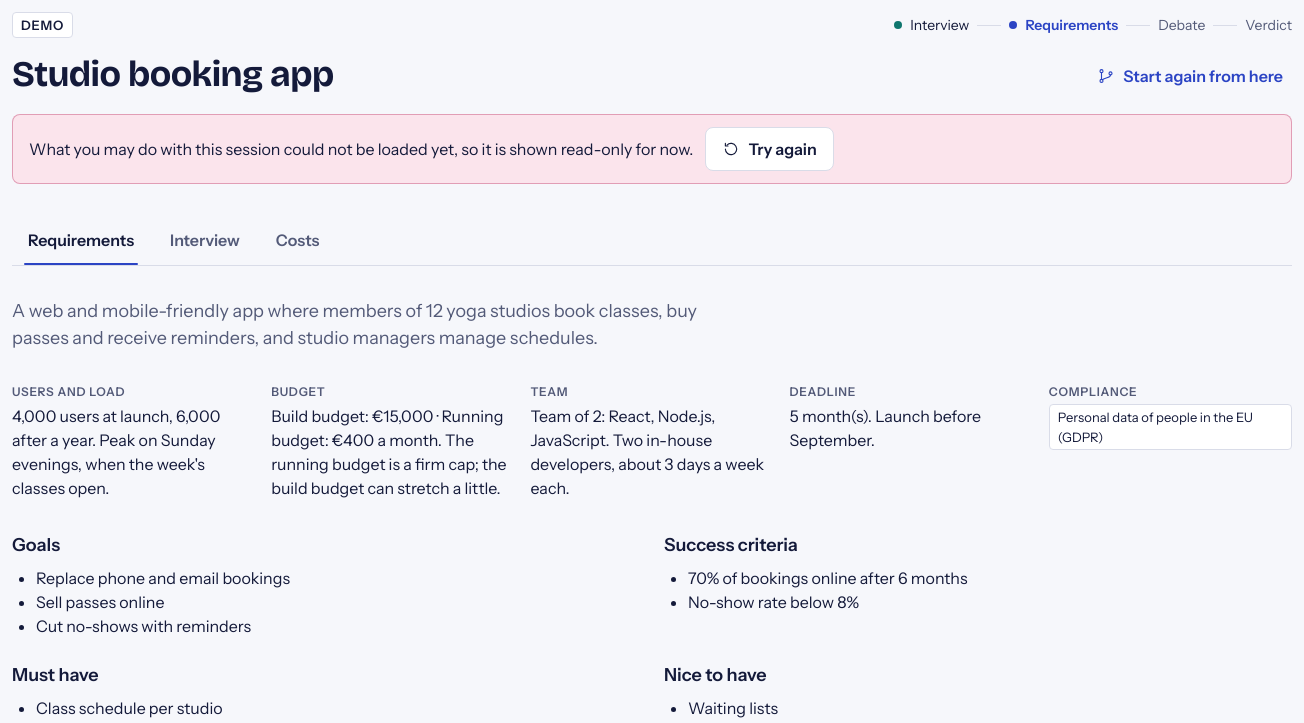
the details of a session › say so, and offer to try again, when they cannot be loaded: the owner is not silently read-only
Expected: the message shows "shown read-only for now", left=29, top=139, right=693, bottom=159
Expected: the button "Share" is not shown
Click the button "Try again". click: (770, 149)
box: left=705, top=127, right=834, bottom=171
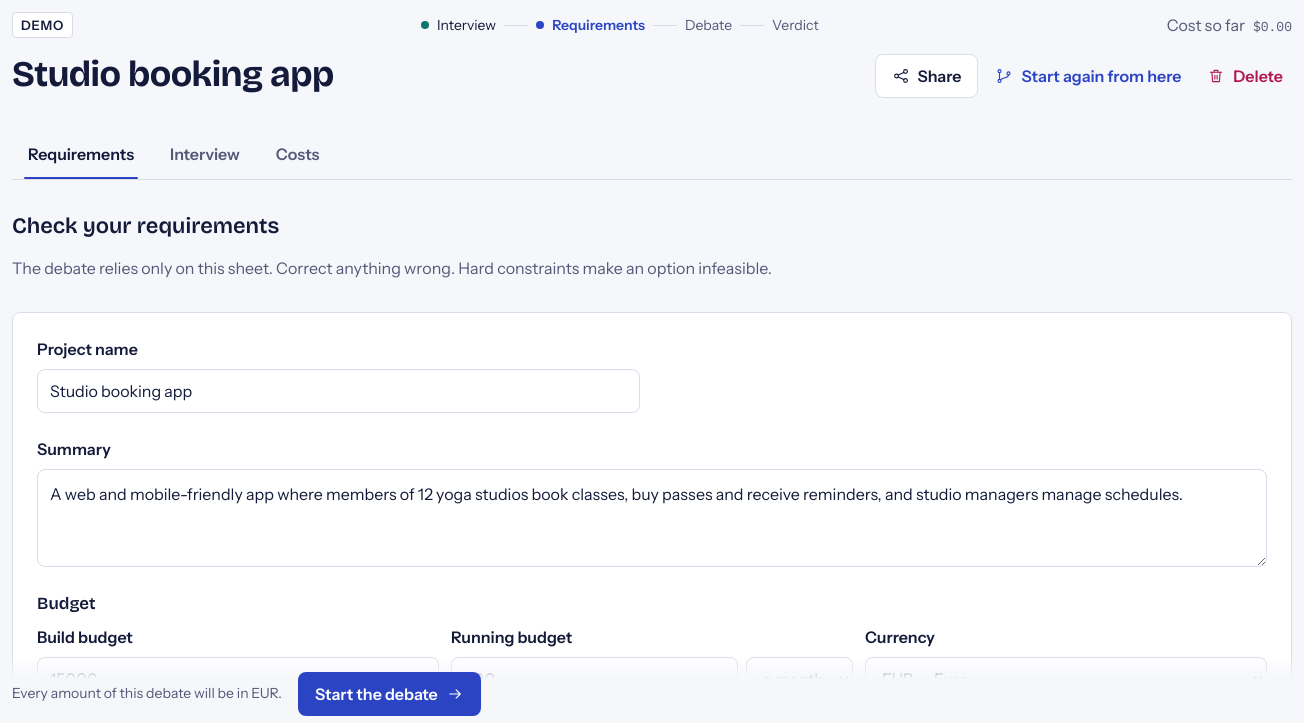
Expected: the button "Share" is shown, left=874, top=54, right=978, bottom=98
Expected: the text "shown read-only for now" is gone
